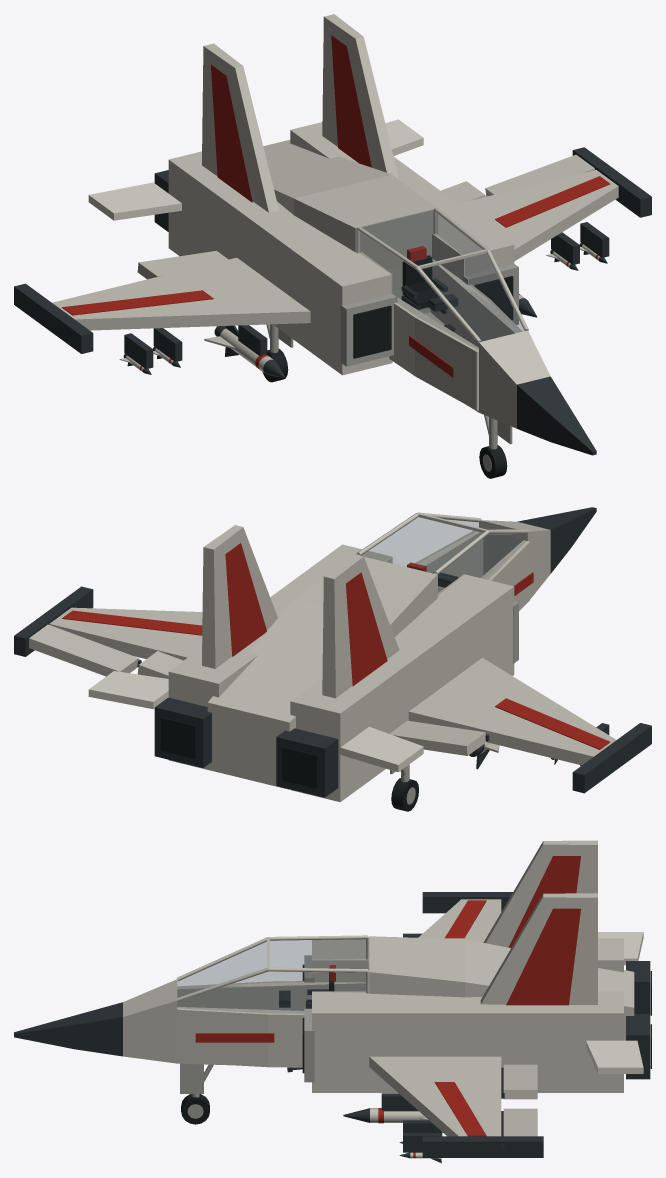
3 views of the same model, one above another, from view 1: azimuth 30°, elevation 25°; view 2: azimuth 150°, elevation 25°; view 3: azimuth 270°, elevation 25° (orthographic). The views are drawn at different scales.
Parts seen in each view (by area): view 1: jet-b-painted, jet-b-glazing, elevator-left-fleet-armor, breakaway-0-painted, crew-chair-pilot-painted, aileron-right-painted, breakaway-1-painted, store-left-large-painted, flap-left-painted, elevator-right-fleet-armor, gear-wheel-nose-0-0-painted; view 2: jet-b-painted, jet-b-glazing, aileron-right-painted, breakaway-0-painted, elevator-left-fleet-armor, elevator-right-fleet-armor, flap-left-painted, breakaway-1-painted, flap-right-painted, gear-wheel-left-0-0-painted; view 3: jet-b-painted, jet-b-glazing, breakaway-1-painted, elevator-right-fleet-armor, flap-right-painted, breakaway-0-painted, aileron-right-painted, store-right-large-painted, landing-gear-nose-painted, gear-wheel-nose-0-0-painted, elevator-left-fleet-armor, crew-chair-pilot-painted.
Boxes of the visible parts, x1,y1,x2,y2 form: jet-b-painted: [52, 14, 618, 455]; jet-b-glazing: [360, 210, 524, 349]; elevator-left-fleet-armor: [88, 182, 181, 220]; breakaway-0-painted: [14, 283, 93, 353]; crew-chair-pilot-painted: [401, 246, 458, 331]; aileron-right-painted: [485, 154, 594, 196]; breakaway-1-painted: [572, 147, 651, 217]; store-left-large-painted: [204, 325, 285, 378]; flap-left-painted: [137, 251, 228, 279]; elevator-right-fleet-armor: [385, 119, 423, 155]; gear-wheel-nose-0-0-painted: [479, 445, 507, 478]; jet-b-painted: [49, 507, 616, 802]; jet-b-glazing: [361, 516, 526, 594]; aileron-right-painted: [29, 624, 141, 676]; breakaway-0-painted: [572, 723, 651, 793]; elevator-left-fleet-armor: [340, 726, 423, 772]; elevator-right-fleet-armor: [88, 671, 168, 709]; flap-left-painted: [389, 720, 489, 755]; breakaway-1-painted: [14, 586, 93, 656]; flap-right-painted: [137, 651, 183, 678]; gear-wheel-left-0-0-painted: [391, 778, 418, 811]; jet-b-painted: [14, 840, 651, 1152]; jet-b-glazing: [177, 938, 367, 1013]; breakaway-1-painted: [422, 1136, 543, 1157]; elevator-right-fleet-armor: [586, 1040, 643, 1073]; flap-right-painted: [501, 1064, 537, 1099]; breakaway-0-painted: [422, 892, 512, 913]; aileron-right-painted: [501, 1108, 537, 1149]; store-right-large-painted: [343, 1108, 442, 1132]; landing-gear-nose-painted: [180, 1063, 213, 1097]; gear-wheel-nose-0-0-painted: [181, 1094, 209, 1124]; elevator-left-fleet-armor: [598, 932, 643, 965]; crew-chair-pilot-painted: [279, 965, 335, 1008].
Size of the model in its own units: 64.46 by 30.39 by 69.47.
